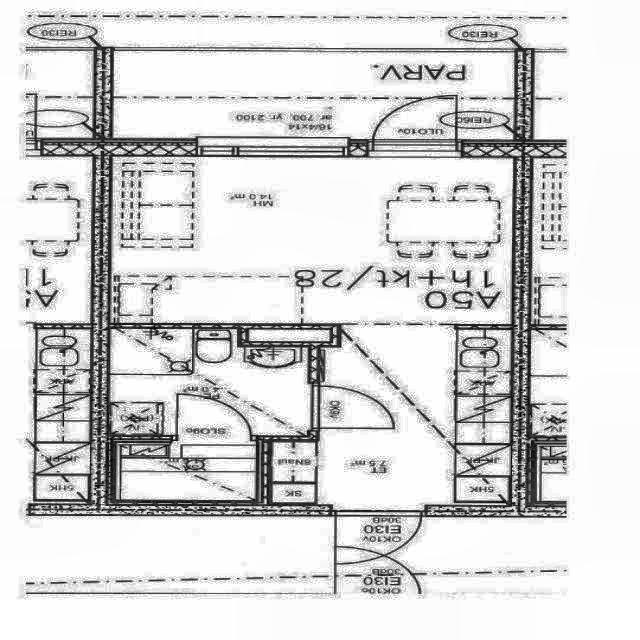room: (110, 328, 309, 435), (113, 439, 257, 500)
